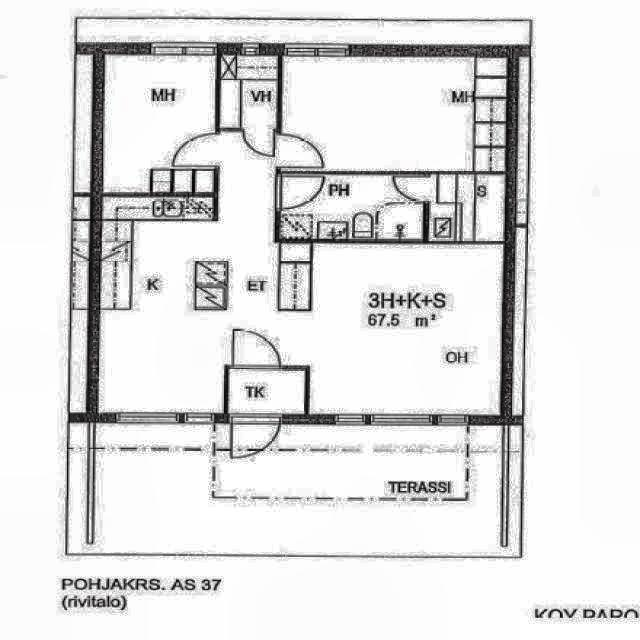room: (282, 57, 506, 171), (103, 54, 215, 194), (281, 175, 423, 239), (429, 175, 503, 240), (220, 56, 276, 128)
